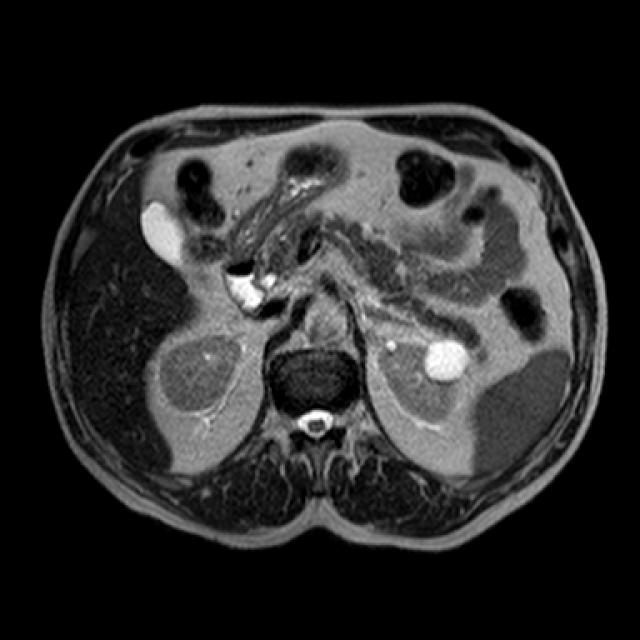sag: (157, 333, 243, 414)
sol: (375, 339, 474, 425)
